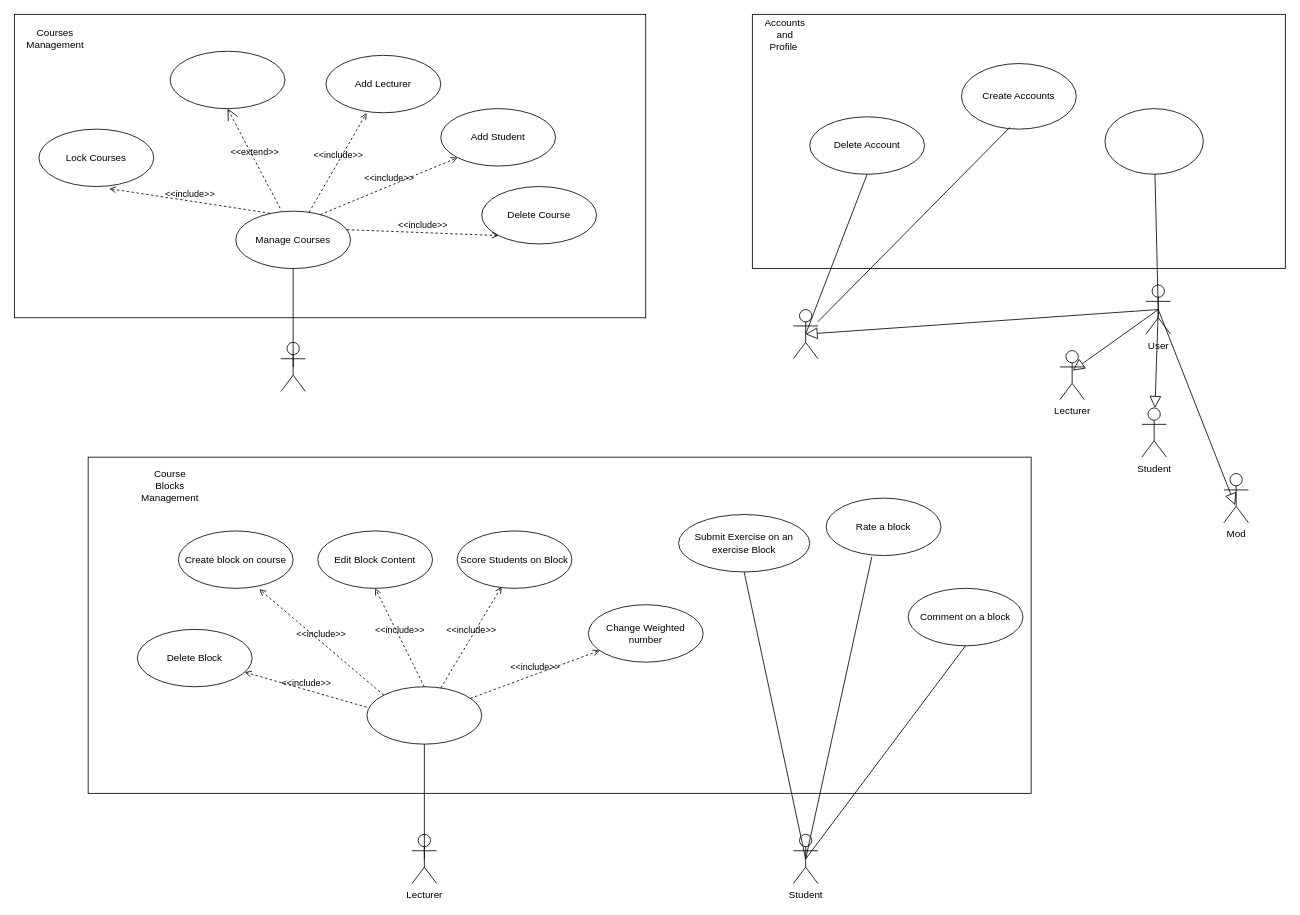
Image size: 1300x915. Some labels were removed from this diagram. The shapes that lost their labels are listed below. From the top down, each one's centre as x and y in pixels, then its label:
At point 227,79: "Create Course".
At point 1153,141: "Update Profile".
At point 805,334: "Admin".
At point 292,367: "Staff".
At point 424,715: "Manage single course".
